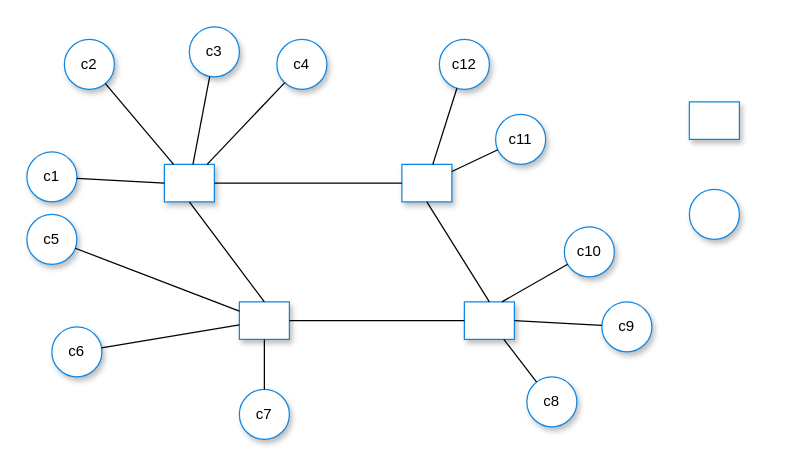
The diagram is 788 pixels wide and 470 high, and some of its shapes have lost their labels. The shapes that lost their labels are listed below. From the top down, each one's centre as x and y in pixels, then its label:
At point (715, 122): "Server Prozess".
At point (190, 184): "s1".
At point (427, 184): "s4".
At point (715, 215): "Client Prozess".
At point (265, 322): "s2".
At point (490, 322): "s3".
